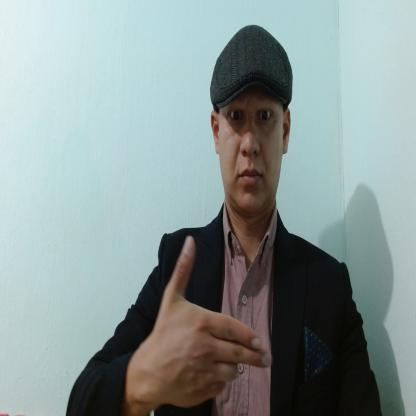H: (153, 234, 271, 409)
